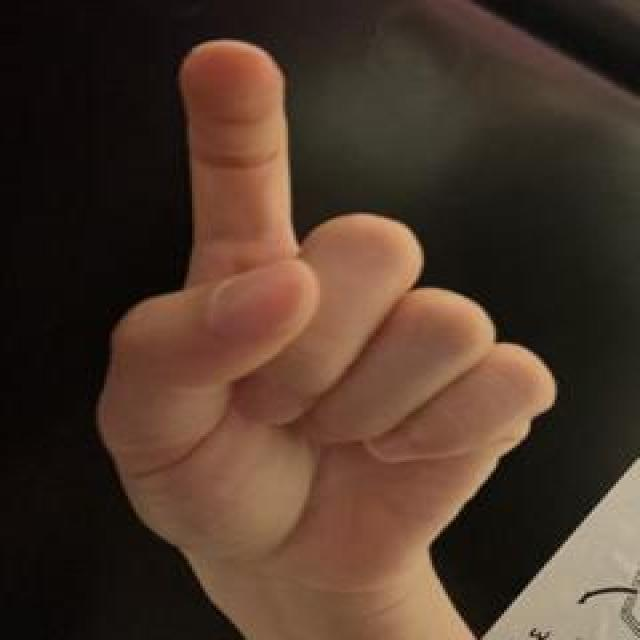X: (88, 32, 565, 598)
